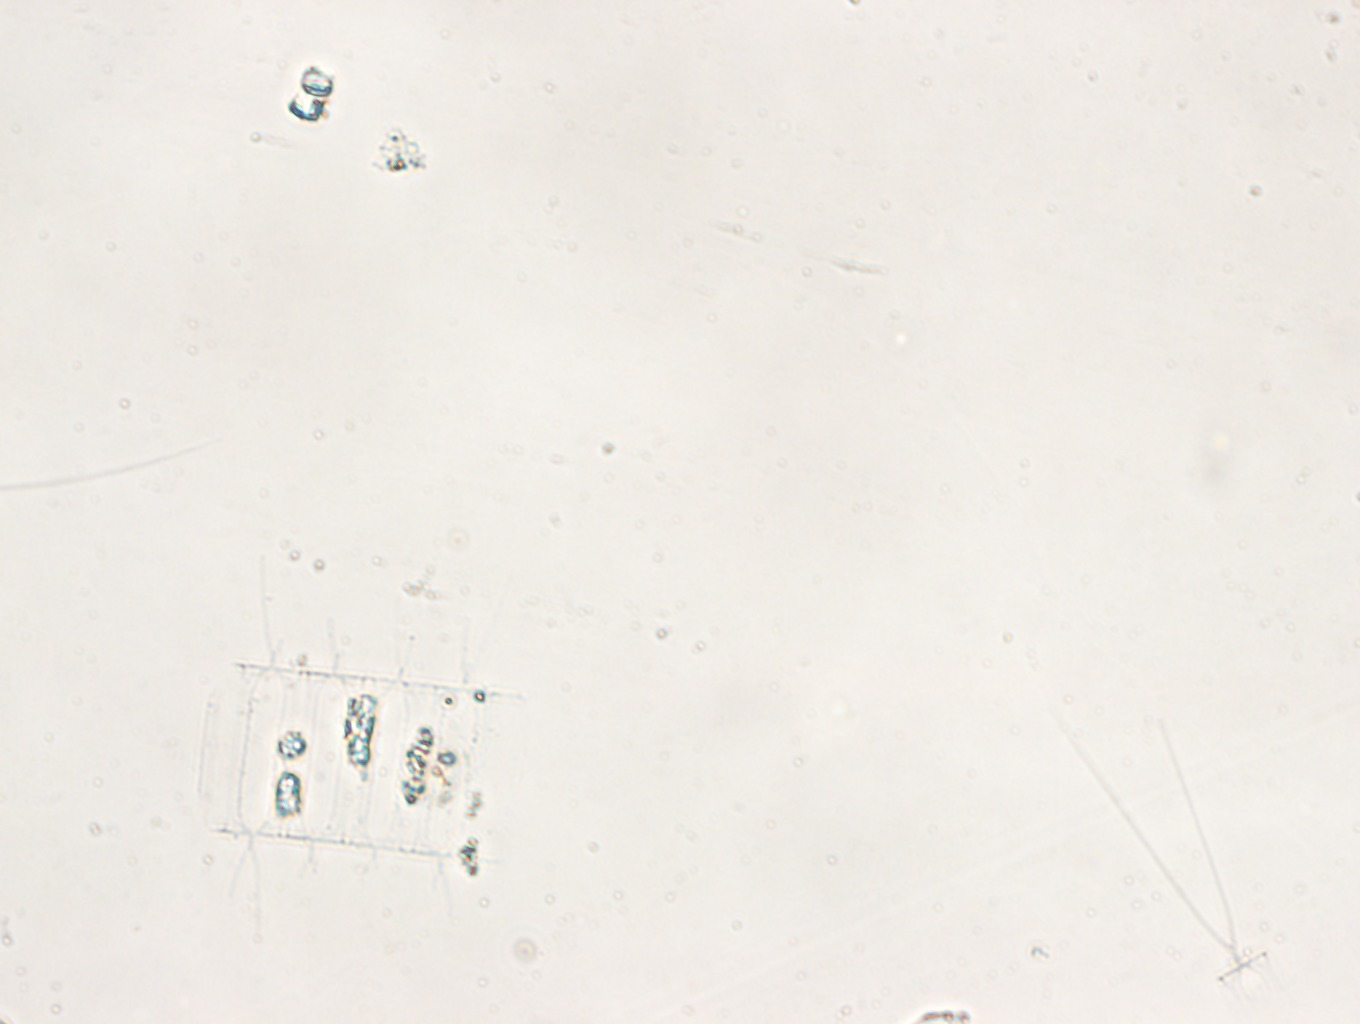chaetoceros: (169, 490, 515, 943)
